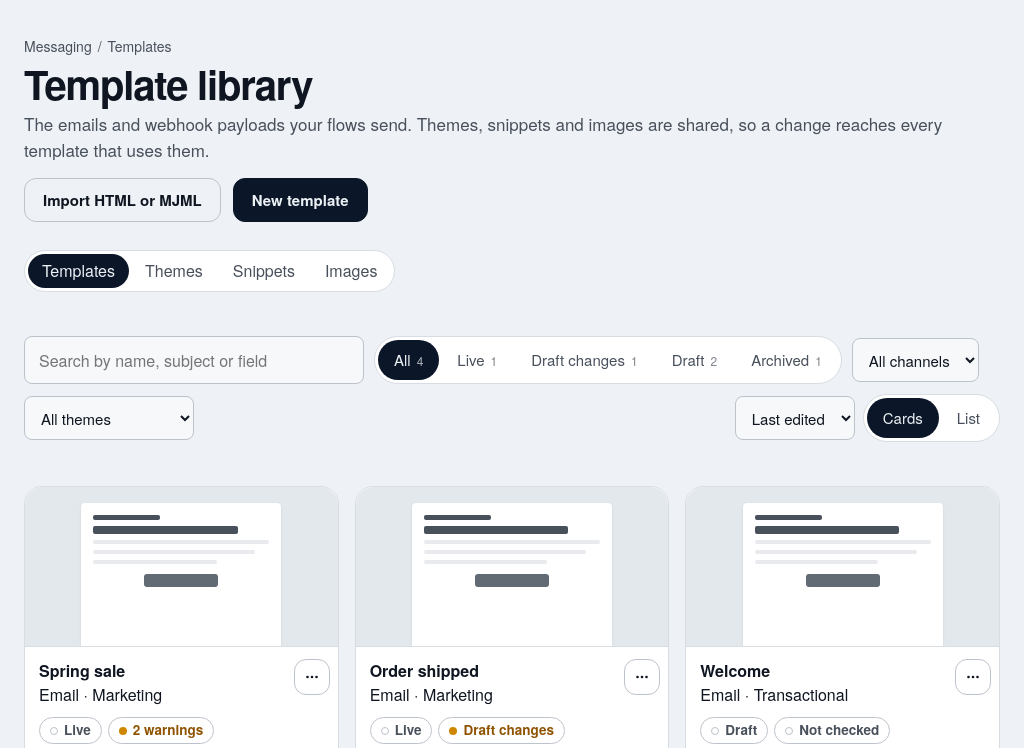
Test: making a template › explains the categories
The image size is (1024, 748).
Click the button "New template": point(300, 200) [233,178,368,222]
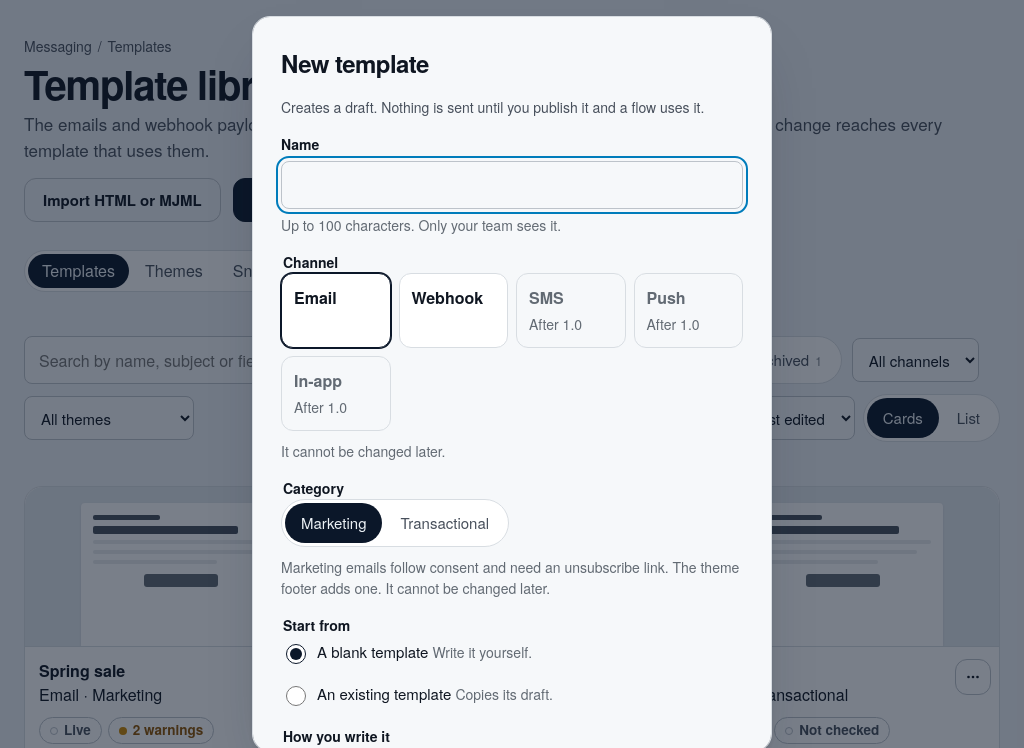
In the field labelled "Name": point(512, 185) [281,161,743,209], type "Welcome"
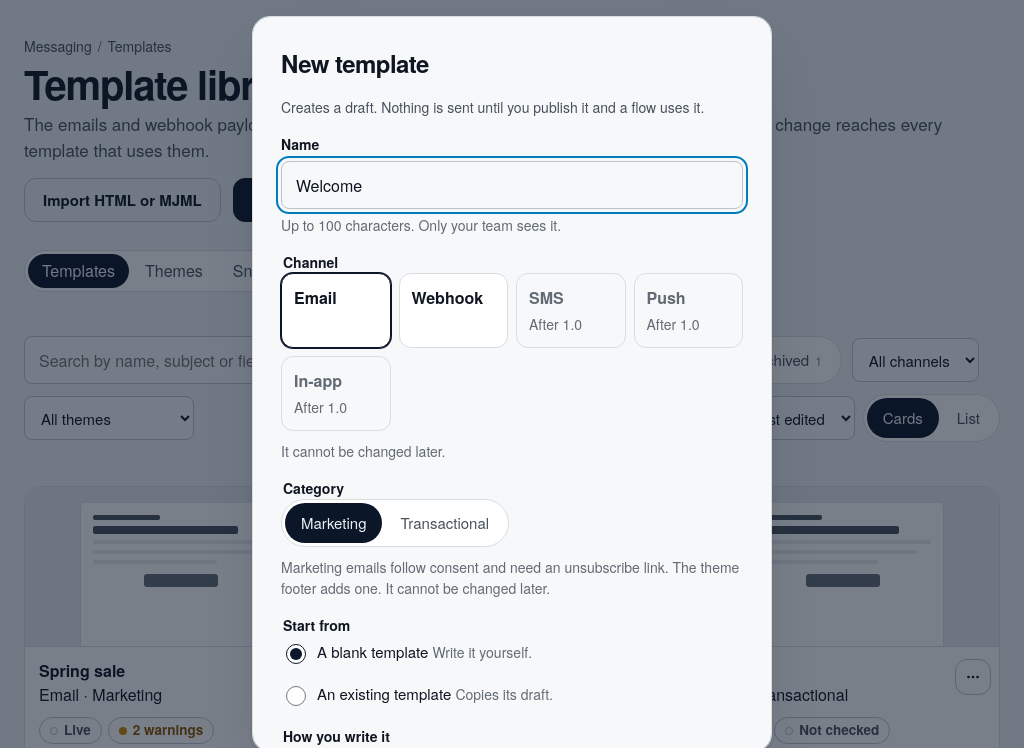
Result: the text "Marketing emails follow consent" is shown at [281,557,739,598]
Click the button "Transactional": point(445, 523) [384,503,505,543]
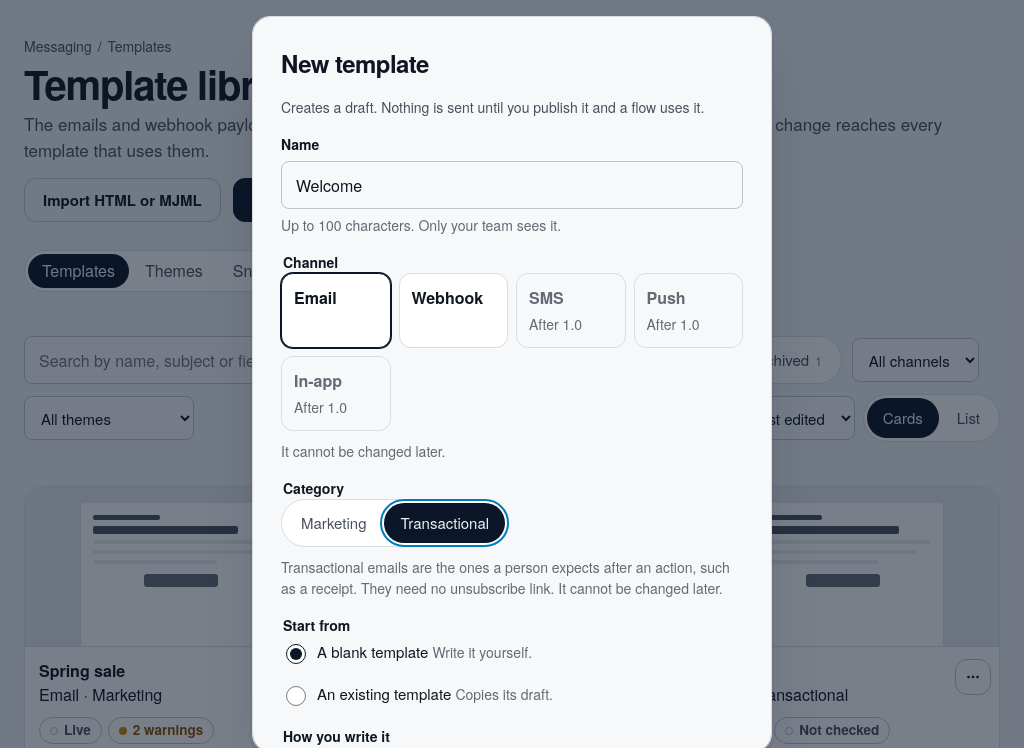
Result: the text "expects after an action" is shown at [281,557,730,598]
